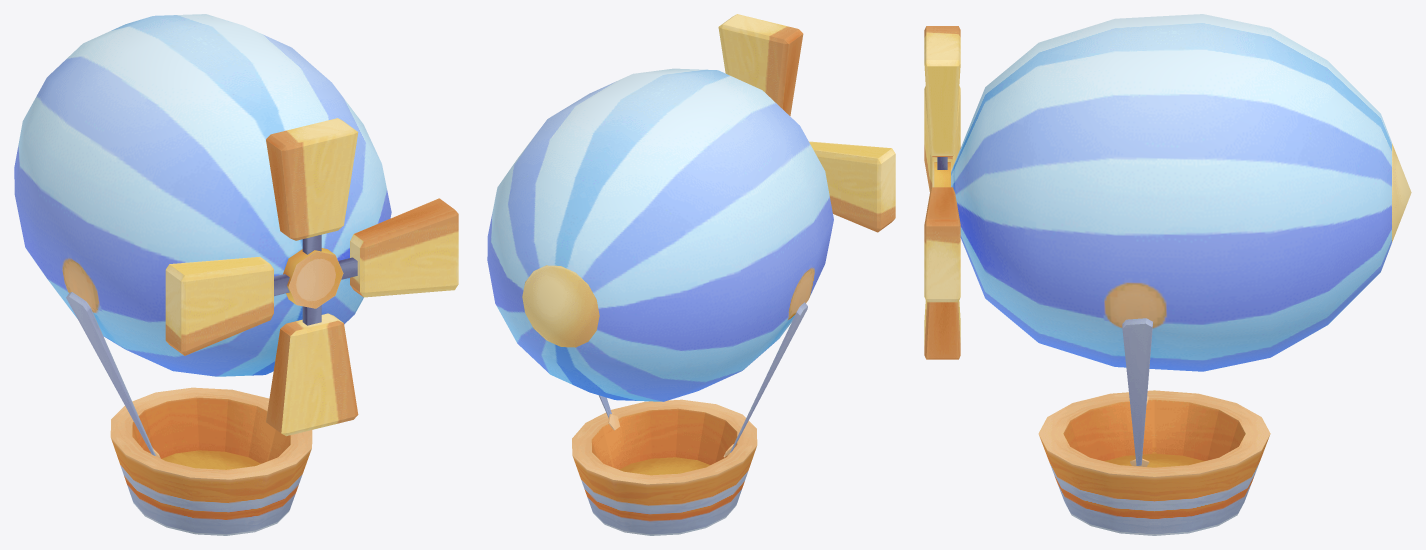
Rendered from ship.gltf.
3 views of the same model, side by side, from view 1: azimuth 30°, elevation 25°; view 2: azimuth 150°, elevation 25°; view 3: azimuth 270°, elevation 25° (orthographic). The views are drawn at different scales.
Parts seen in each view (by area): view 1: ship_body, ship_paddle; view 2: ship_body, ship_paddle; view 3: ship_body, ship_paddle.
Part boxes in pixels (box(x1,y1,x2,y2)): ship_body: box(14, 14, 391, 535); ship_paddle: box(165, 118, 458, 436); ship_body: box(487, 68, 833, 535); ship_paddle: box(718, 14, 895, 232); ship_body: box(951, 14, 1411, 535); ship_paddle: box(924, 26, 960, 359).
Size of the model in its own units: 4.11 by 5.96 by 5.59.
Materials: 1 (1 with a texture image).
